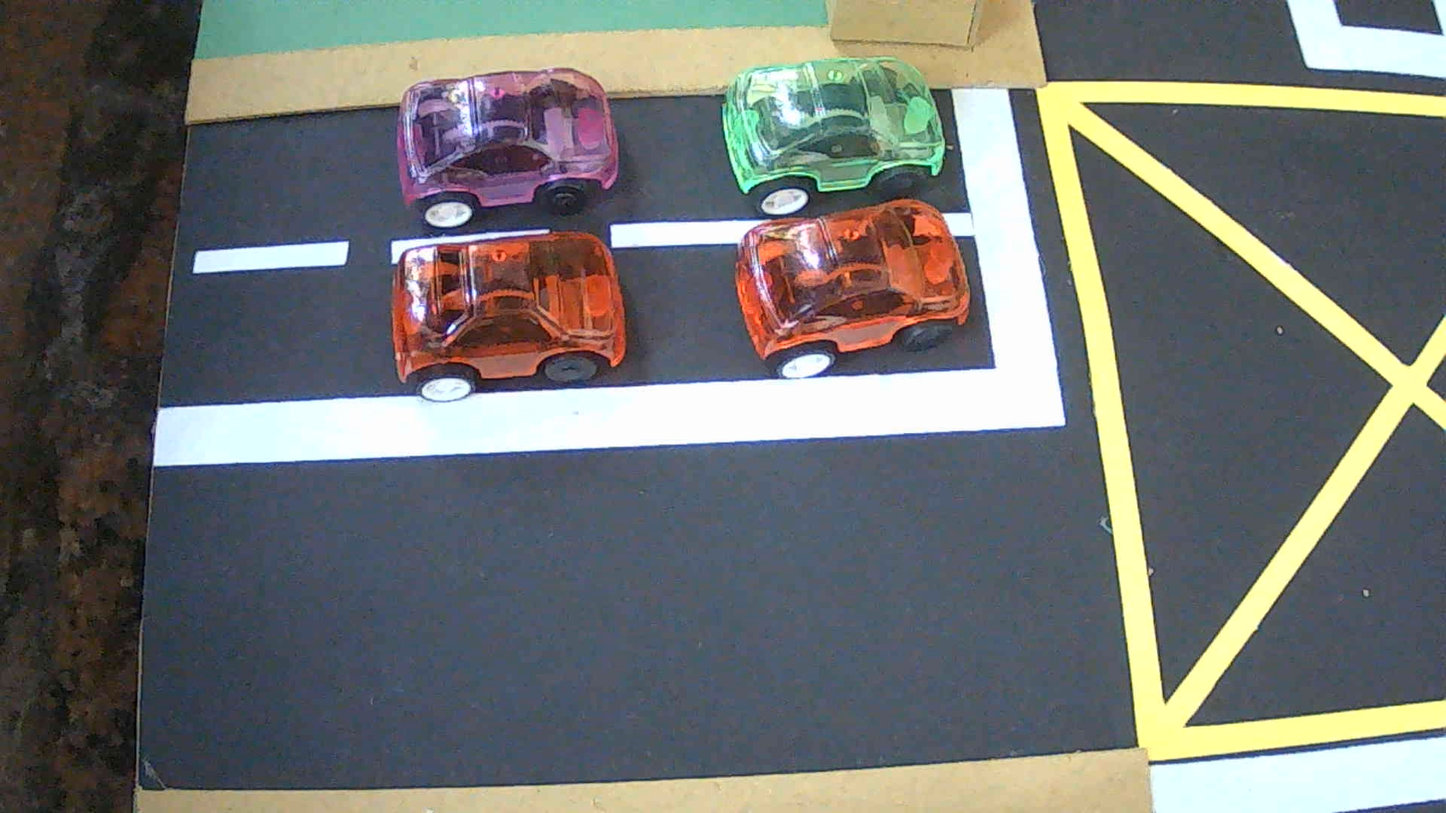Mobil hijau: (723, 57, 944, 216)
Mobil merah: (735, 199, 971, 379), (392, 232, 626, 402)
Mobil ungu: (396, 68, 618, 229)
